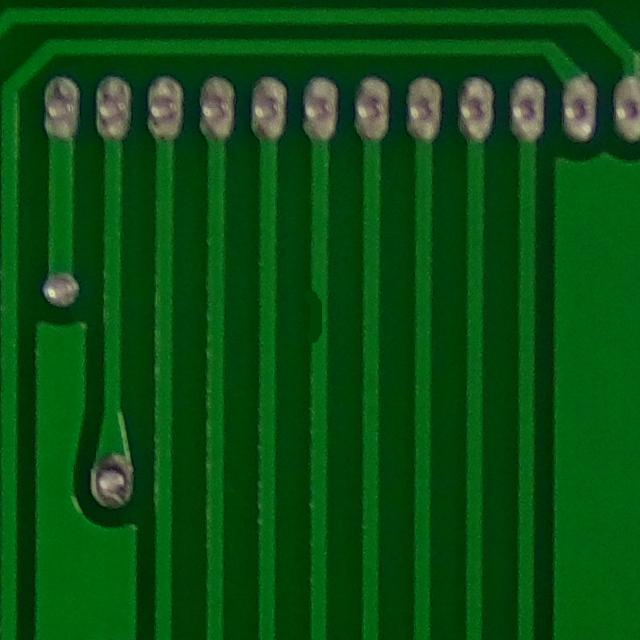mouse_bite: (294, 283, 346, 357)
